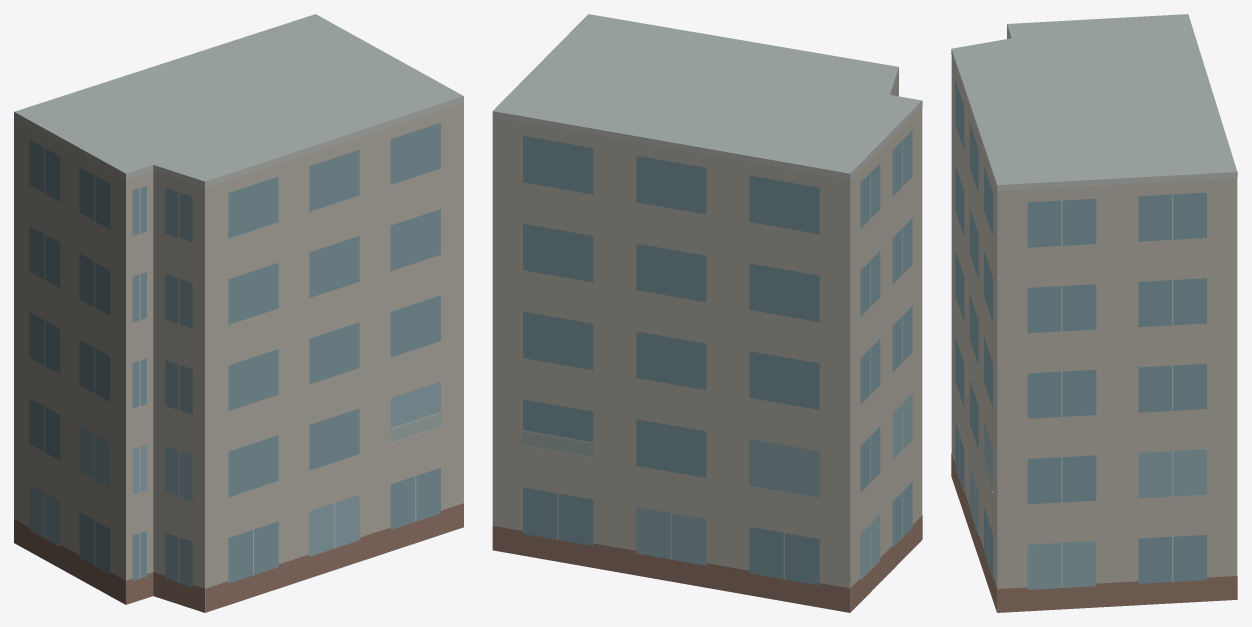
Rendered from survey-upis-32938263.glb.
3 views of the same model, side by side, from view 1: azimuth 30°, elevation 25°; view 2: azimuth 150°, elevation 25°; view 3: azimuth 270°, elevation 25° (orthographic). The views are drawn at different scales.
Visible parts, largest first — view 1: survey-upis-32938263.tmp; view 2: survey-upis-32938263.tmp; view 3: survey-upis-32938263.tmp.
Part boxes in pixels (box(x1,y1,x2,y2)): survey-upis-32938263.tmp: box(14, 14, 463, 612); survey-upis-32938263.tmp: box(492, 14, 922, 612); survey-upis-32938263.tmp: box(951, 14, 1237, 612).
Size of the model in its own units: 14.91 by 17.37 by 10.54.
